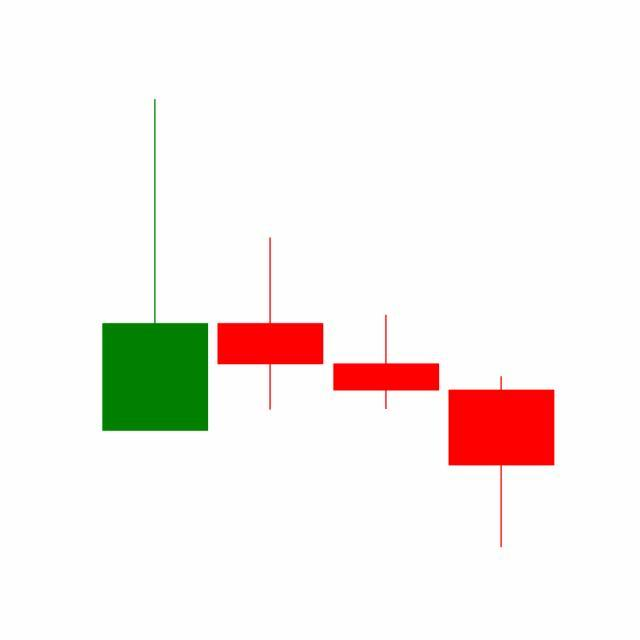Hammer: (444, 374, 560, 550)
